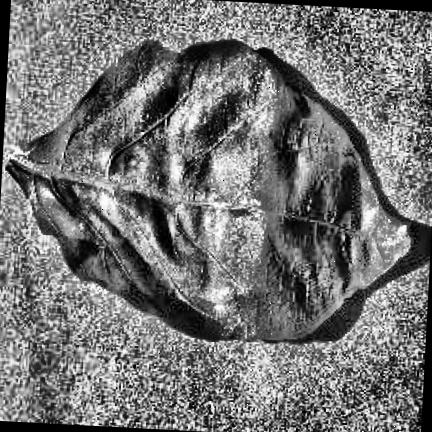leaf: (7, 39, 412, 339)
